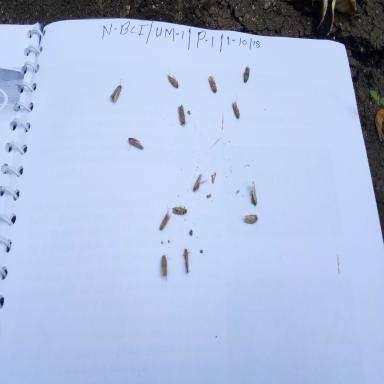pbw: (159, 252, 172, 286), (109, 77, 124, 105), (229, 98, 243, 125), (242, 62, 257, 86), (165, 66, 180, 90), (193, 172, 209, 194), (159, 202, 171, 231), (248, 178, 259, 207), (181, 245, 191, 276), (126, 134, 144, 151), (177, 103, 188, 128), (207, 71, 217, 95), (243, 212, 258, 227), (172, 202, 188, 216)
